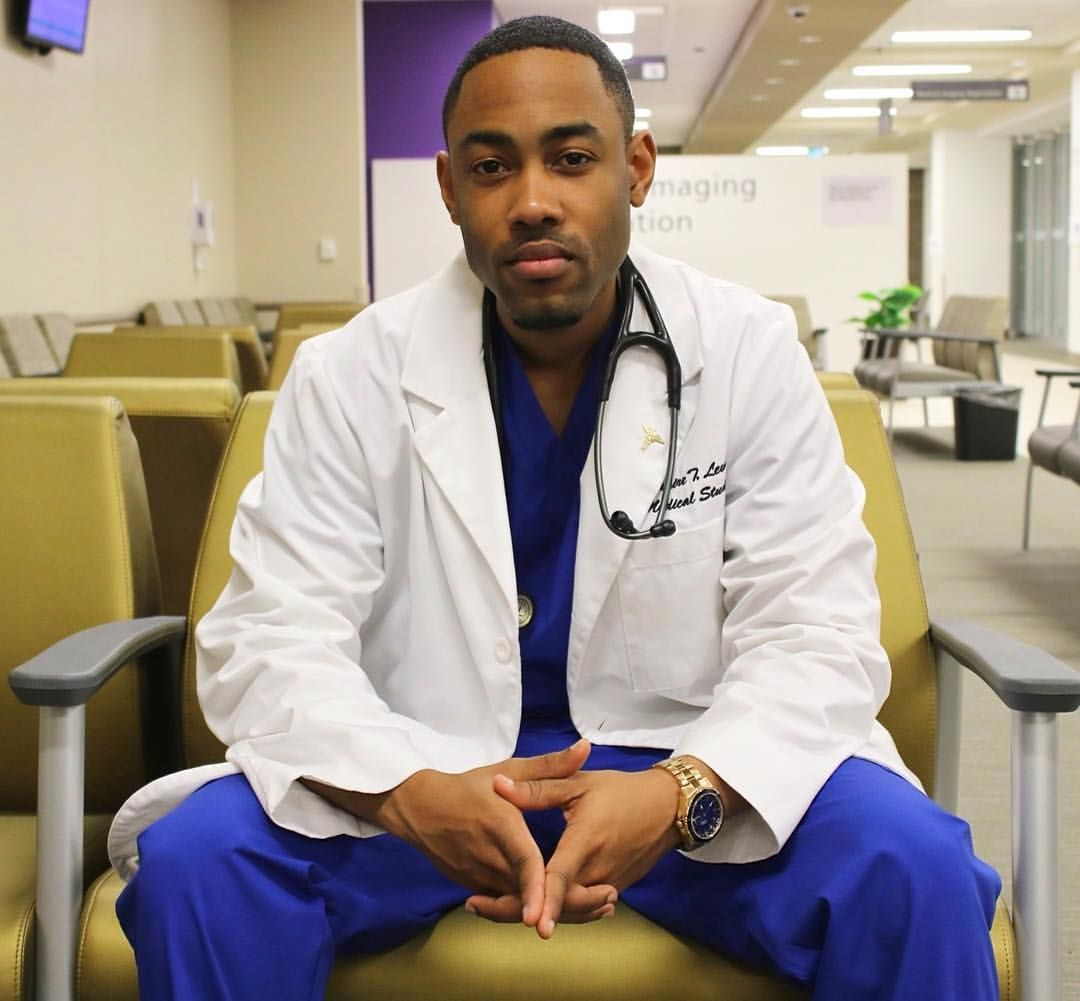hand: (413, 734, 580, 913), (493, 756, 664, 930)
